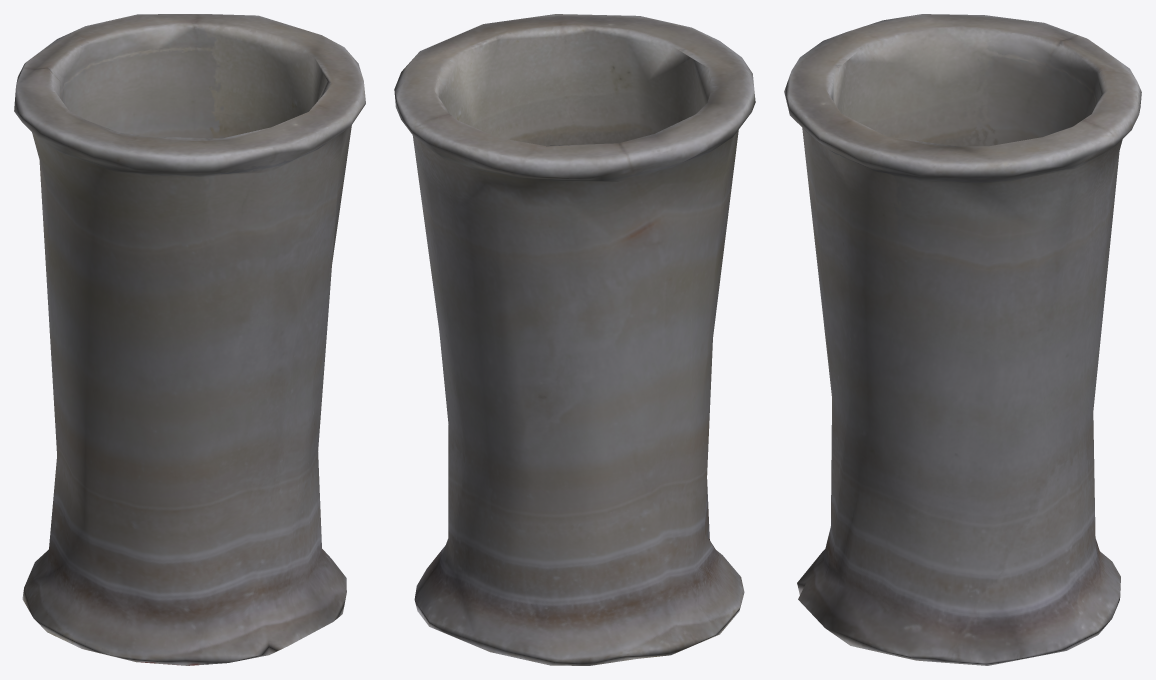
File: Egyptian_Travertine_Jar.fbx
3 views of the same model, side by side, from view 1: azimuth 30°, elevation 25°; view 2: azimuth 150°, elevation 25°; view 3: azimuth 270°, elevation 25° (orthographic).
Parts seen in each view (by area): view 1: Egyptian_Travertine_Jar_LOD0; view 2: Egyptian_Travertine_Jar_LOD0; view 3: Egyptian_Travertine_Jar_LOD0.
Part boxes in pixels (x1,y1,x2,y2): Egyptian_Travertine_Jar_LOD0: (14,14,365,665); Egyptian_Travertine_Jar_LOD0: (394,14,755,665); Egyptian_Travertine_Jar_LOD0: (784,14,1141,665).
Size of what is drawn, in the model's own units: 34.17 by 54.25 by 33.97.
1 material, 1 textured.
